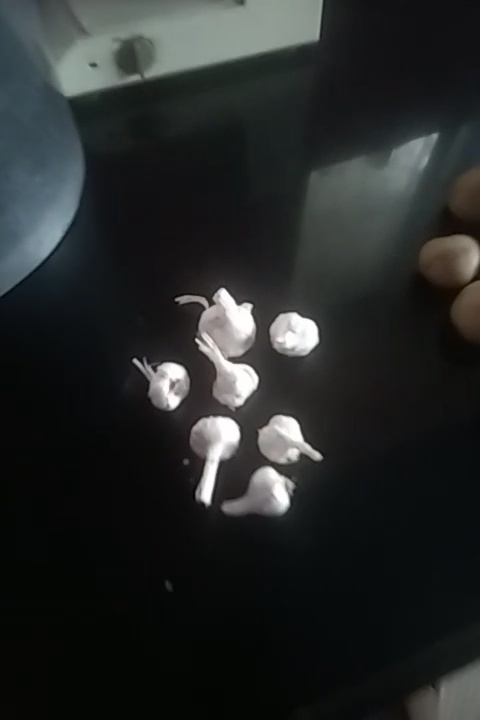garlic: (183, 285, 259, 357), (195, 341, 262, 409), (191, 409, 238, 500), (259, 415, 316, 471), (137, 356, 188, 417), (227, 467, 291, 514), (271, 309, 322, 360)
potato: (415, 237, 478, 292), (451, 277, 480, 342), (446, 168, 480, 217)
